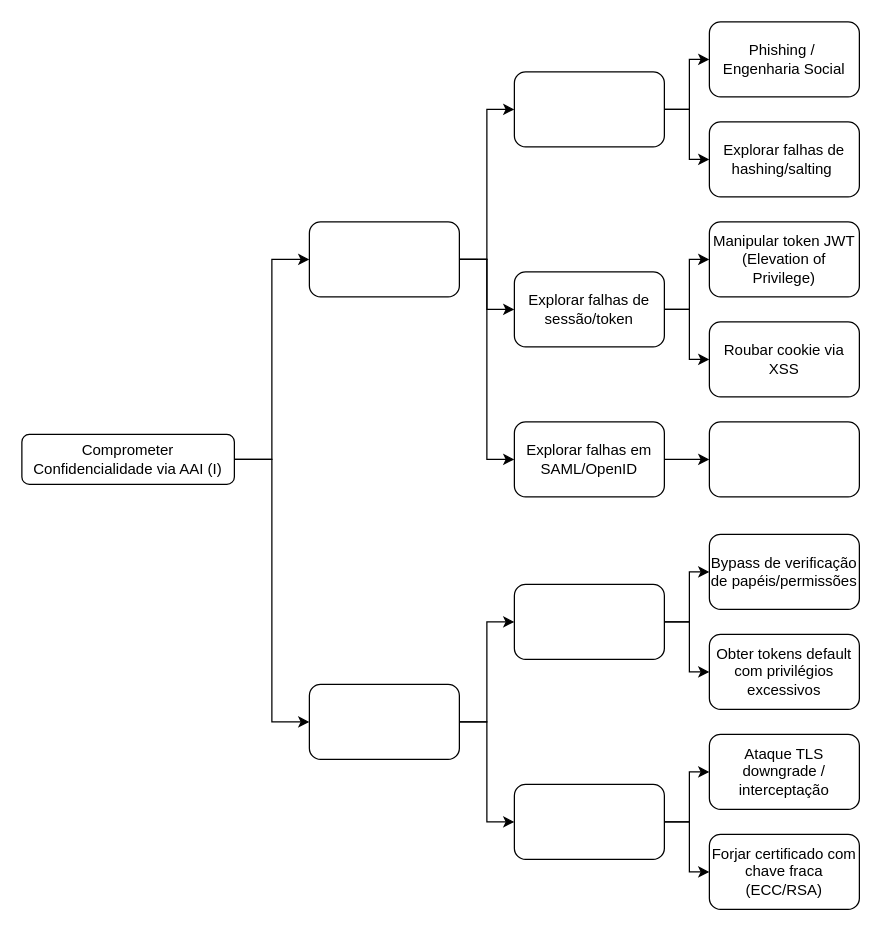
The diagram is 881 pixels wide and 931 high, and some of its shapes have lost their labels. Here are the shapes that lost their labels. From the top down, the box of each, then its label:
(513, 71, 664, 147): Comprometer senhas (Knowledge Factor)
(308, 221, 459, 297): Obter credenciais válidas
(708, 421, 859, 497): Vulnerabilidade em implementação (SAML Injection / Token Substitution)
(513, 583, 664, 659): Quebrar lógica de autorização
(308, 683, 459, 759): Burlar autenticação sem credenciais
(513, 783, 664, 859): Explorar falha criptográfica
